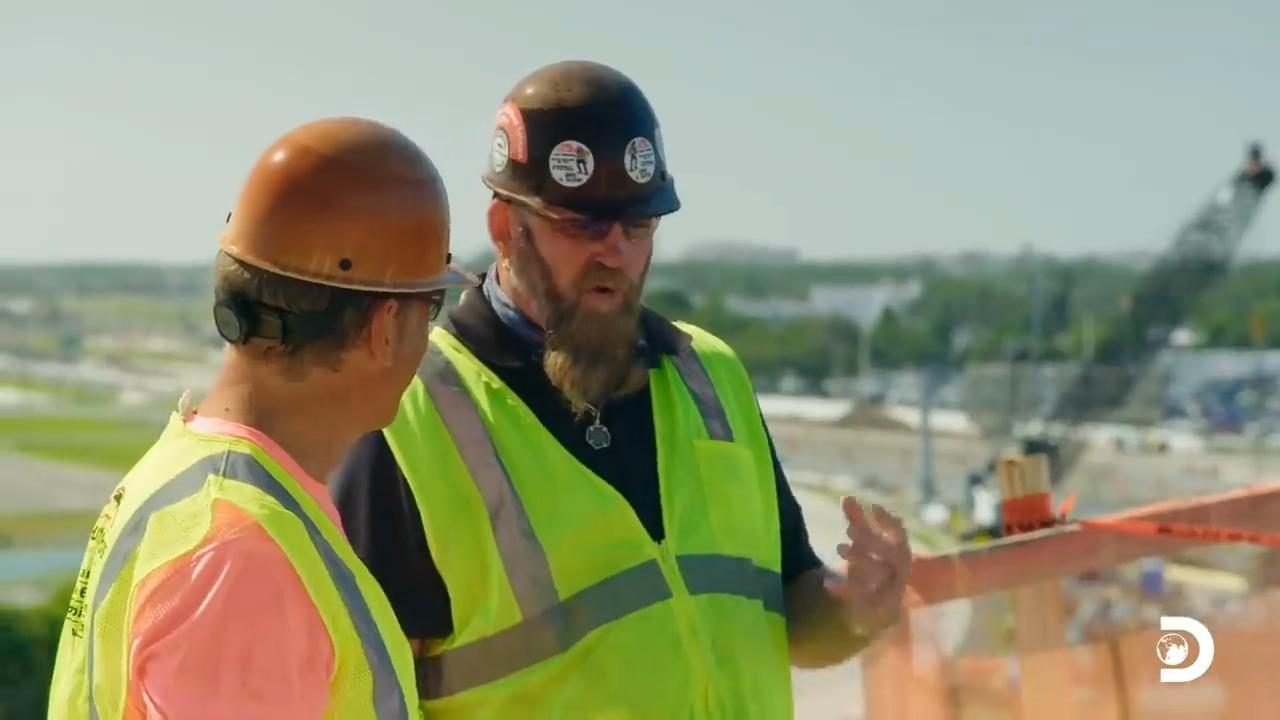Helmet: (217, 114, 483, 294), (481, 58, 681, 222)
Person: (46, 114, 483, 719)
Safety Vest: (411, 413, 795, 720), (75, 488, 347, 720)
bare-arms: (833, 466, 955, 639)
